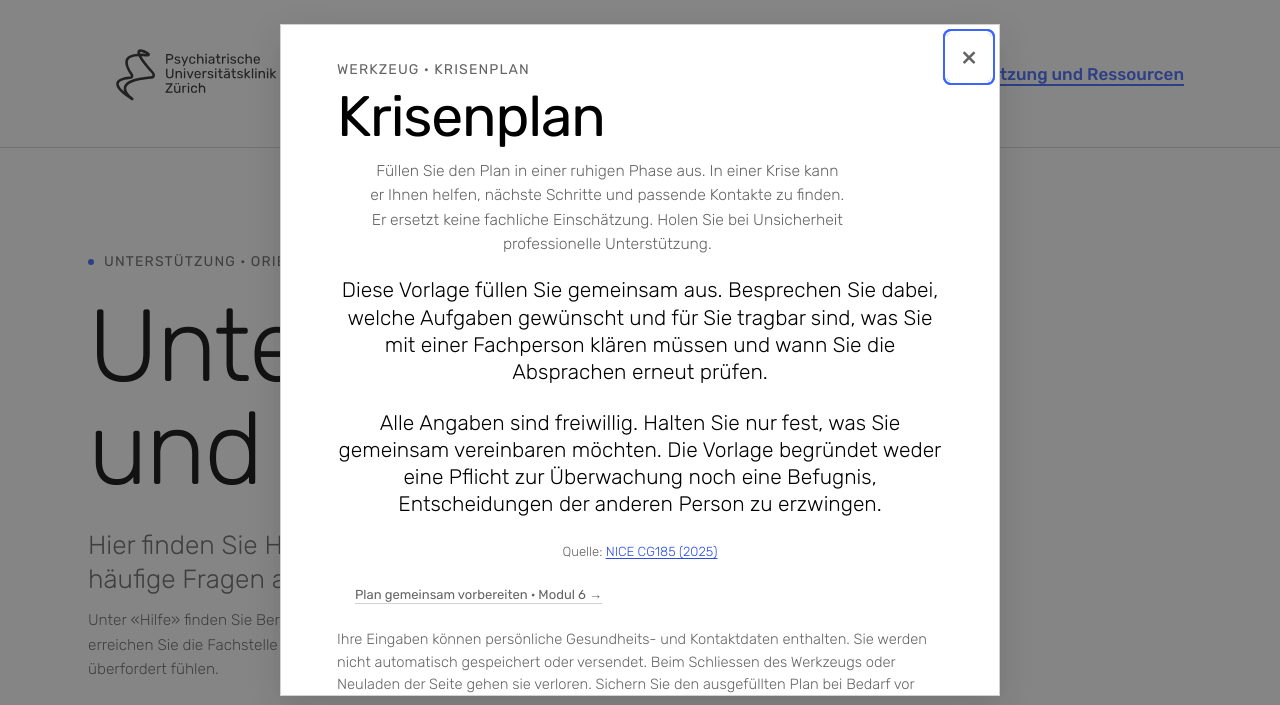
Test: App navigation › keeps the crisis-plan material linked to the same preparation context
Click the button "Plan gemeinsam vorbereiten · Modul 6 →": click(479, 596) [337,574,620,618]
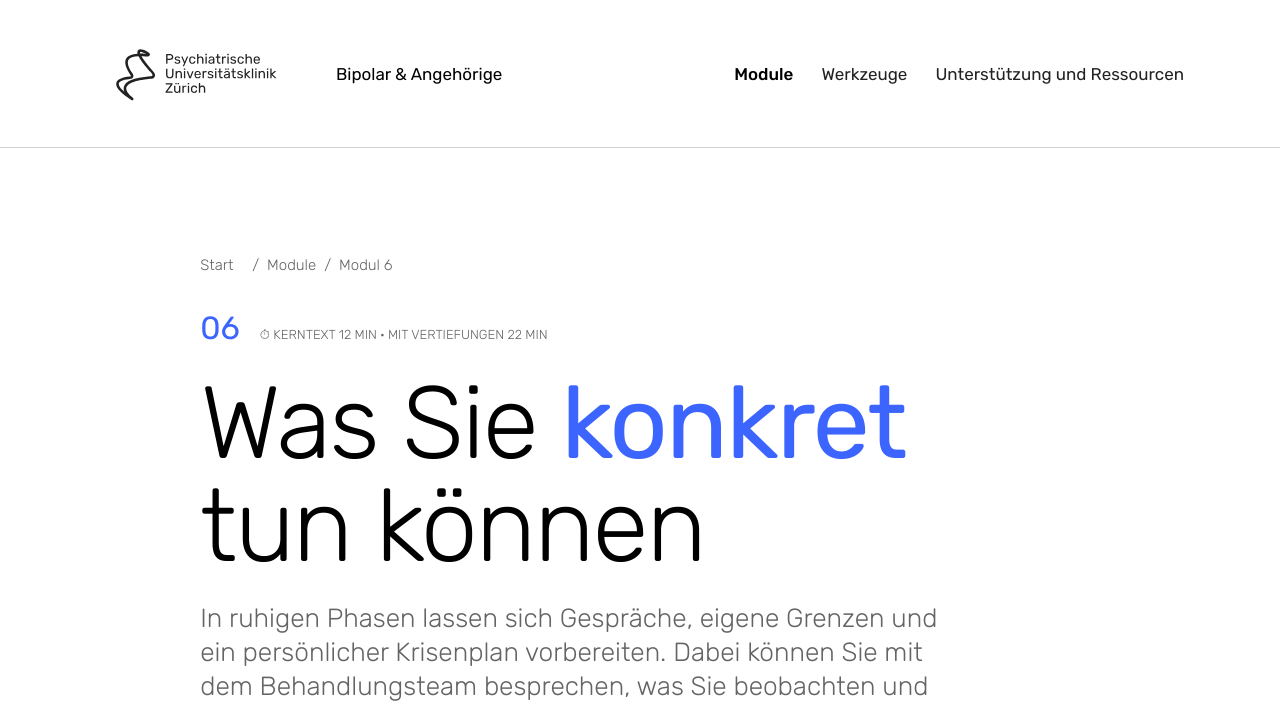
Now the heading "Was Sie konkret tun können" is shown, box [200,362,906,586]
